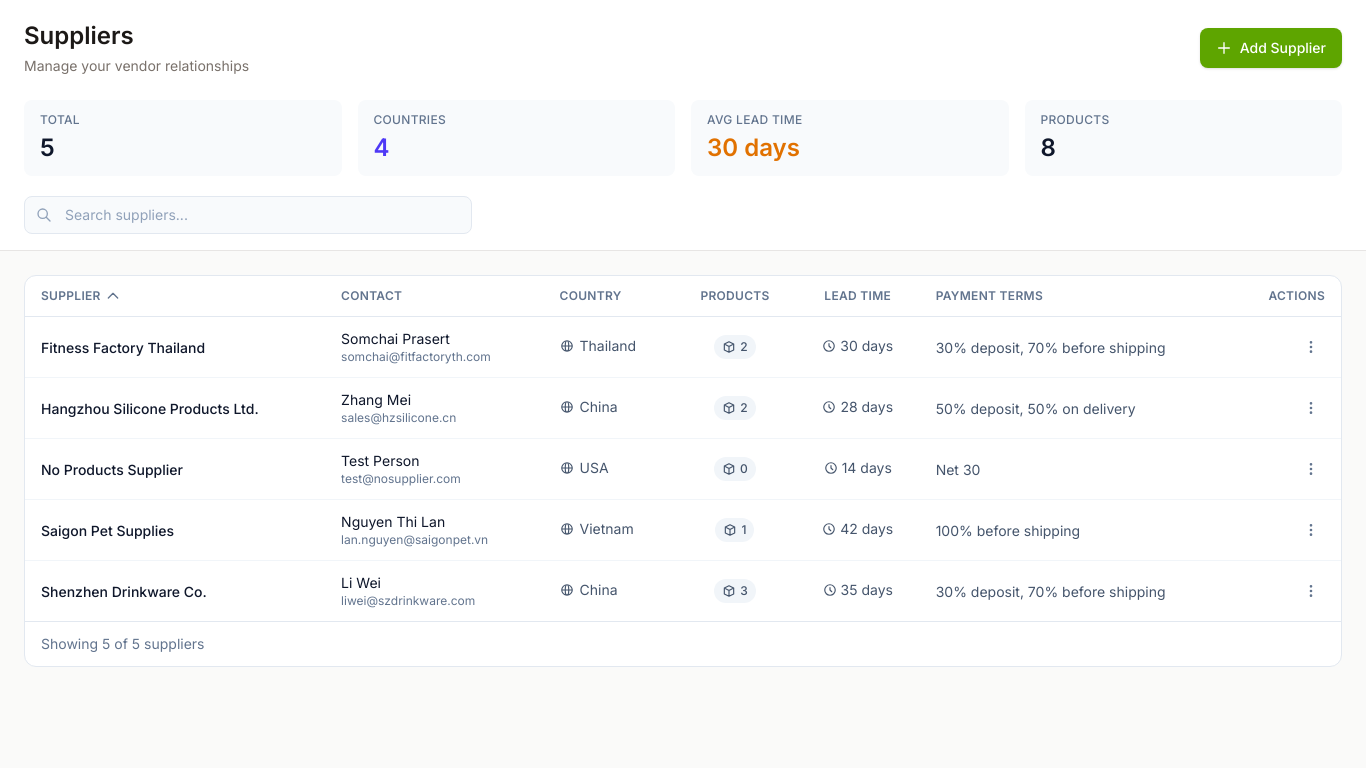
Suppliers - Search Suppliers › filters suppliers by name search
The width and height of the screenshot is (1366, 768).
Type "Shen" into the field with placeholder "Search suppliers..." at point(248, 215), box [24, 196, 472, 234]
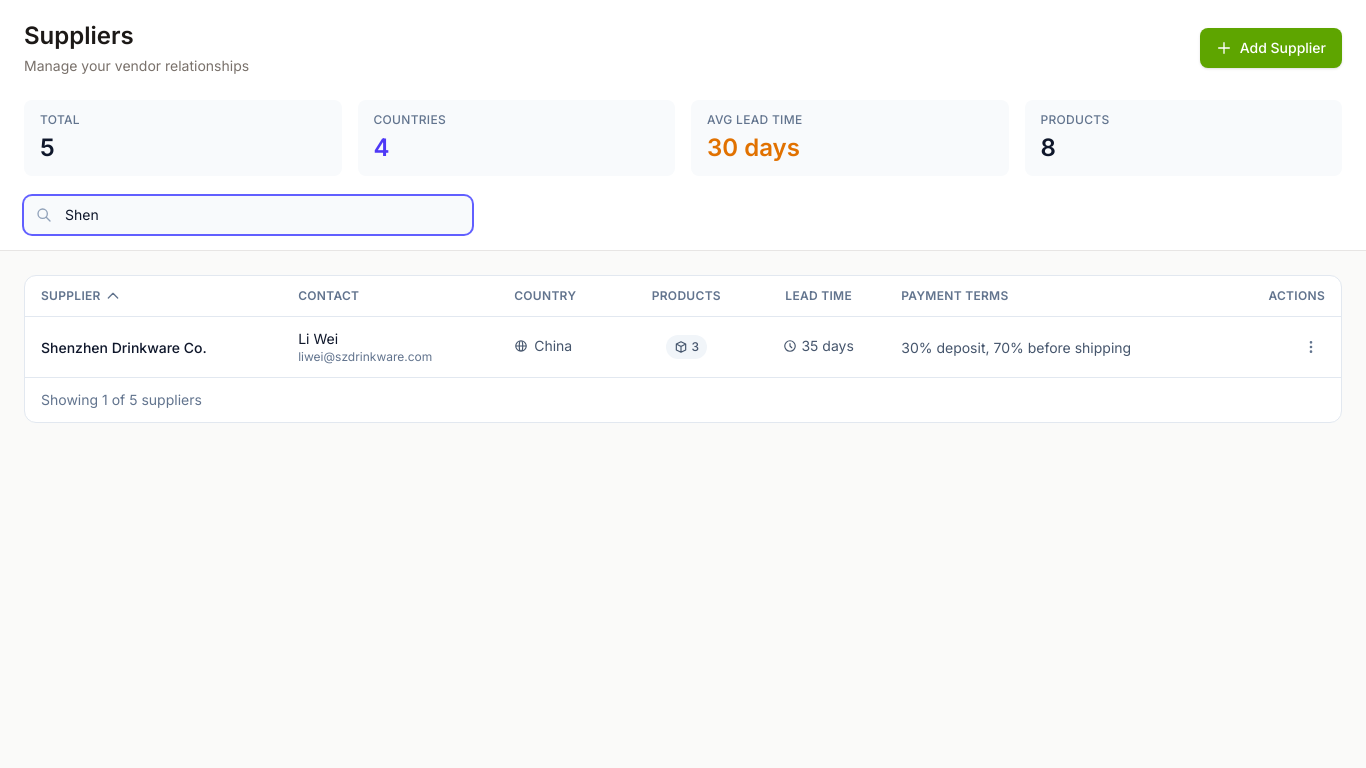
Expected: the button "Shenzhen Drinkware Co." is shown, [41, 338, 207, 358]
Now the button "Saigon Pet Supplies" is gone
Now the button "Fitness Factory Thailand" is gone
